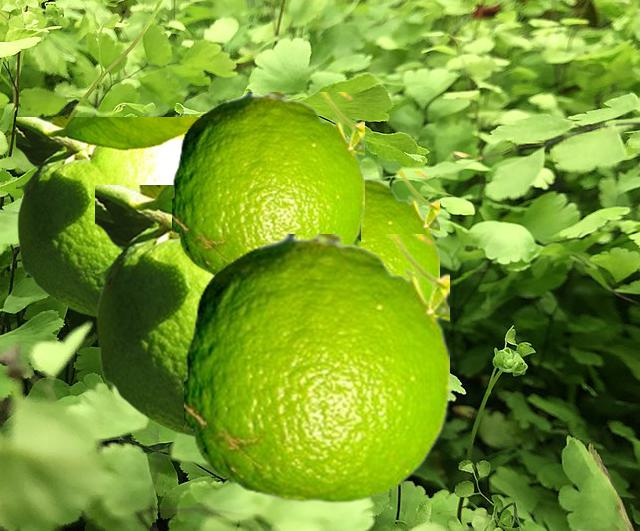dalandan: (184, 234, 448, 502), (95, 185, 359, 437), (16, 117, 195, 316), (172, 92, 363, 276), (360, 171, 438, 298)
